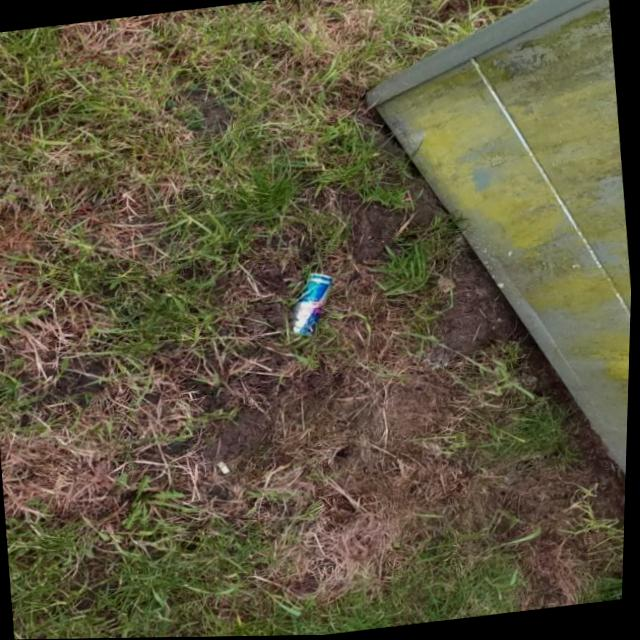Can-Metal: (284, 270, 341, 340)
